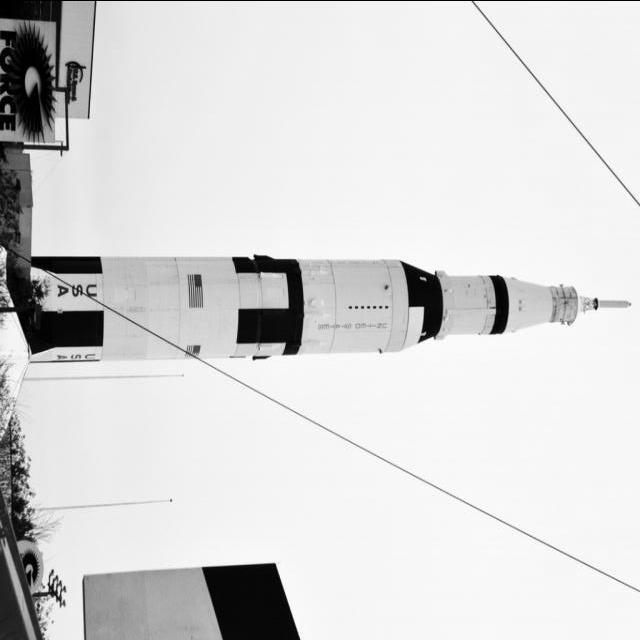missile: (0, 211, 582, 406)
